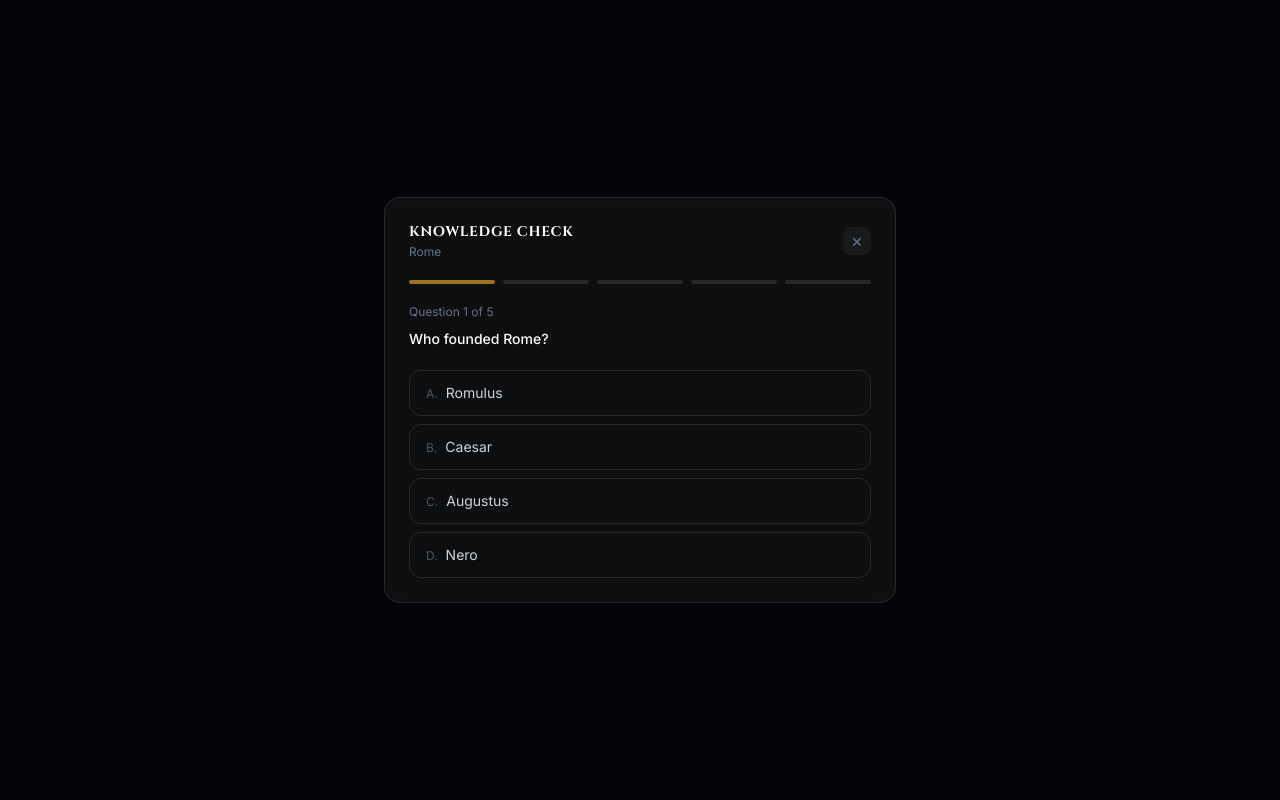
Scenario: QuizModal › advances to the next question after clicking Next
Expected: the text "Who founded Rome?" is shown, [409,330,548,347]
What coordinates should you click on to do the following:
click the button "A.Romulus"
I would click on:
 (474, 393)
Its box is [409,370,871,416].
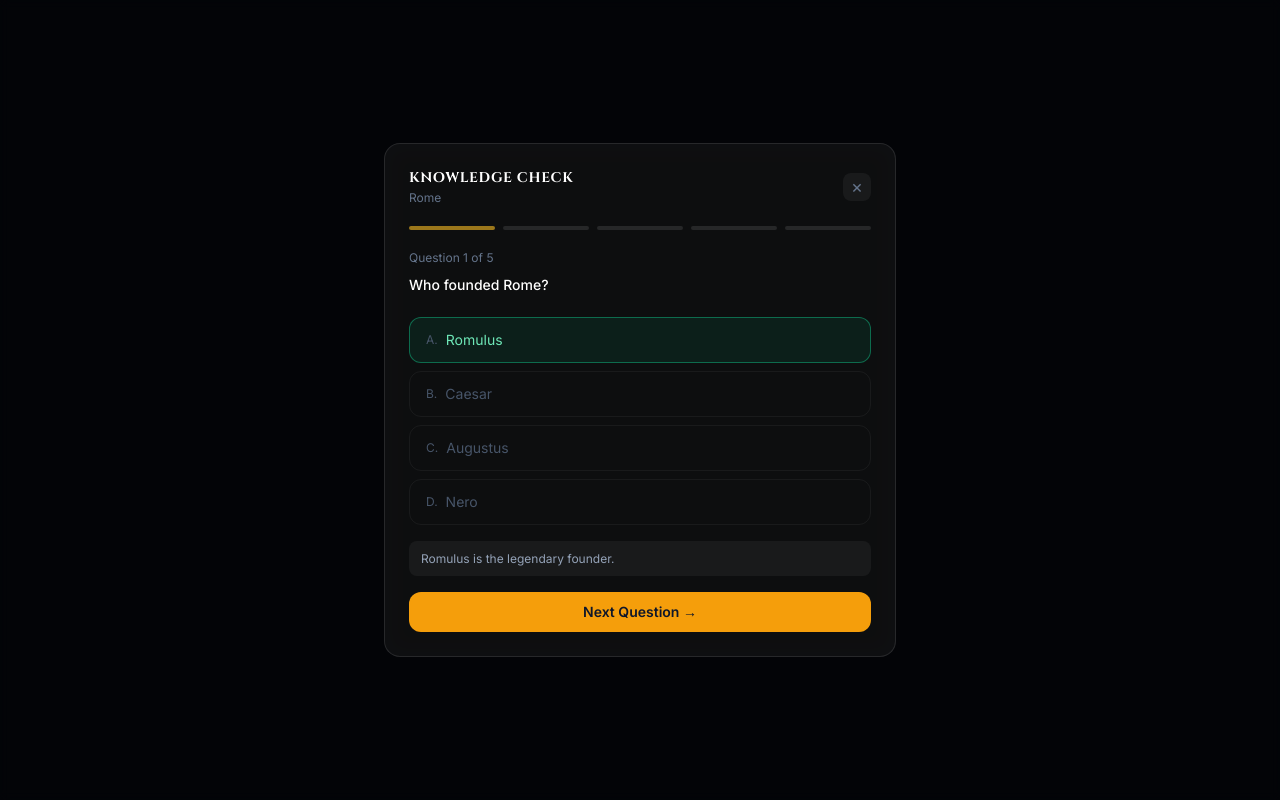
What coordinates should you click on to do the following:
click the button "Next Question →"
I would click on:
 (640, 612)
Its box is [409,592,871,632].
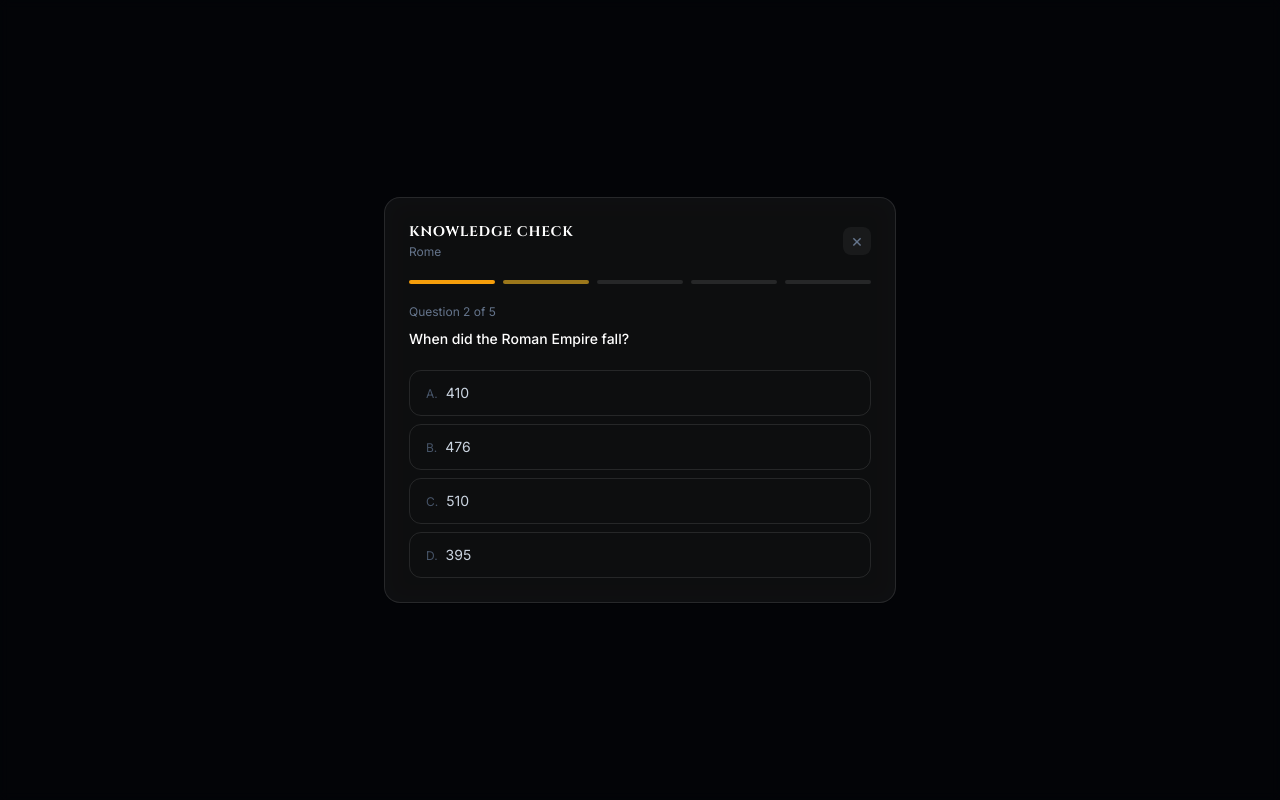
Expected: the text "When did the Roman Empire fall?" is shown, [409,330,629,347]
